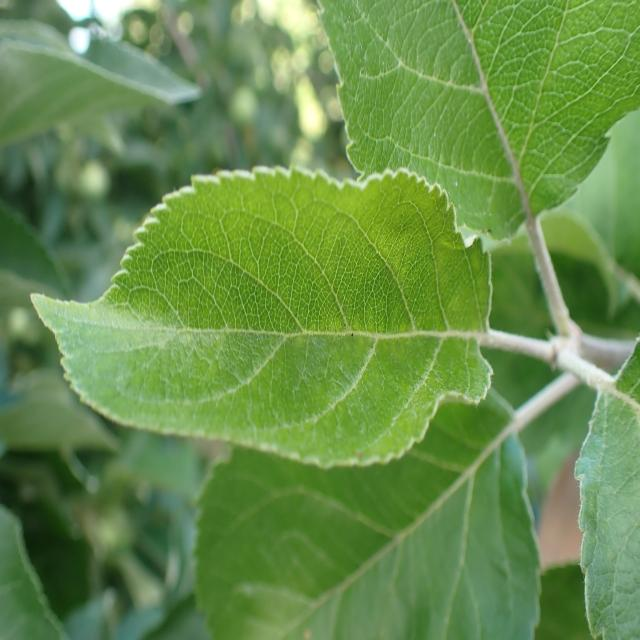healthy: (29, 163, 495, 469), (191, 388, 542, 640), (316, 0, 639, 241), (0, 18, 203, 147), (574, 332, 640, 640)
